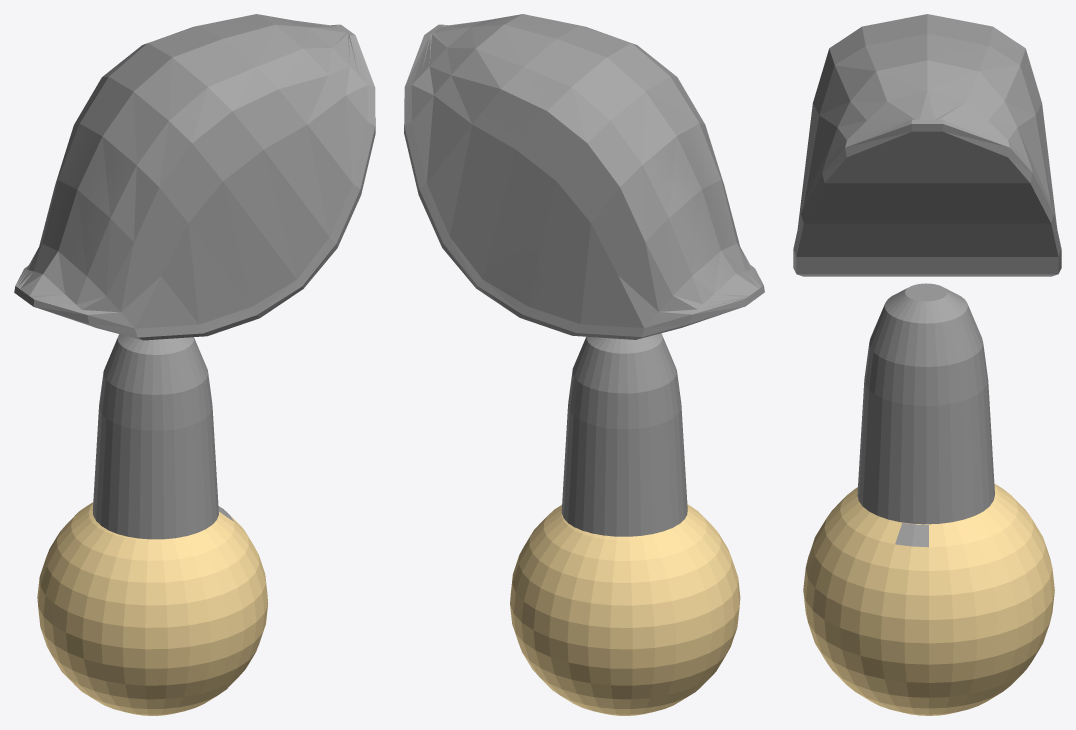
The model's file is handRight.obj.
3 views of the same model, side by side, from view 1: azimuth 30°, elevation 25°; view 2: azimuth 150°, elevation 25°; view 3: azimuth 270°, elevation 25° (orthographic). The views are drawn at different scales.
Visible parts, largest first — view 1: 腕_右_円柱.005, 腕_左_円柱.002, 腕_右_円柱.001; view 2: 腕_右_円柱.005, 腕_左_円柱.002, 腕_右_円柱.001; view 3: 腕_右_円柱.005, 腕_左_円柱.002, 腕_右_円柱.001.
Part boxes in pixels (left/top/right/bottom): 腕_右_円柱.005: left=14, top=14, right=375, bottom=340; 腕_左_円柱.002: left=37, top=502, right=268, bottom=715; 腕_右_円柱.001: left=93, top=334, right=218, bottom=539; 腕_右_円柱.005: left=404, top=14, right=764, bottom=339; 腕_左_円柱.002: left=510, top=504, right=740, bottom=715; 腕_右_円柱.001: left=561, top=333, right=687, bottom=536; 腕_右_円柱.005: left=793, top=14, right=1061, bottom=276; 腕_左_円柱.002: left=803, top=483, right=1054, bottom=715; 腕_右_円柱.001: left=857, top=283, right=994, bottom=524.
Size of the model in its own units: 0.9889 by 1.9 by 0.6507.
